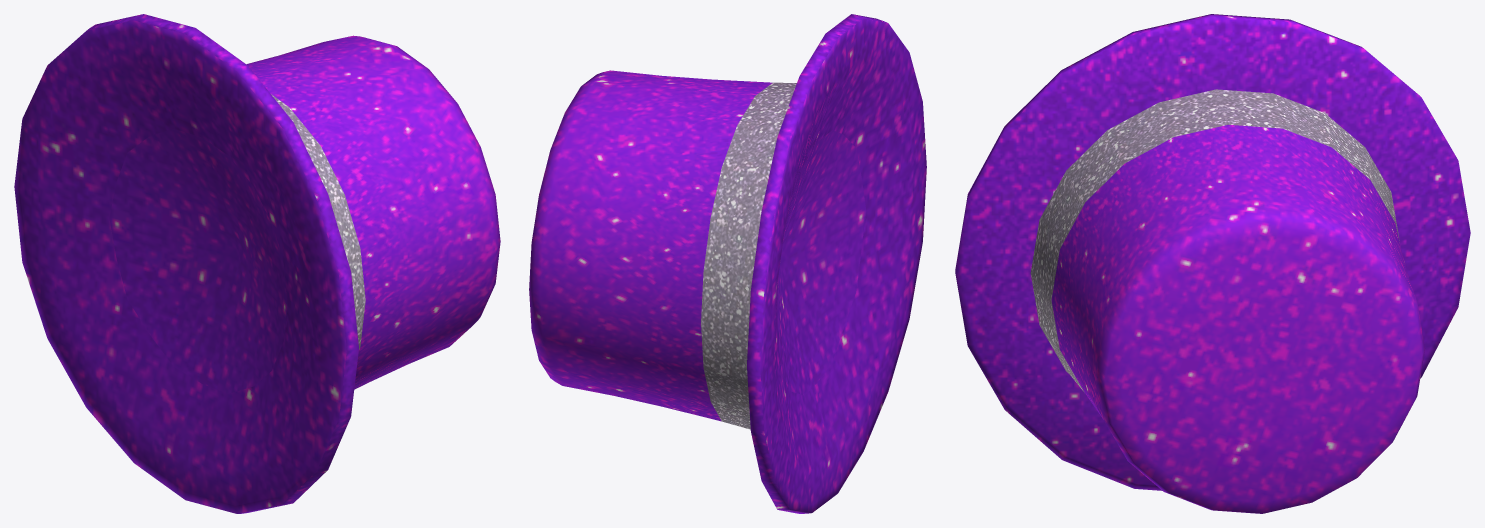
The model's file is pm0026_00_raichu_newyear2021.fbx.
3 views of the same model, side by side, from view 1: azimuth 30°, elevation 25°; view 2: azimuth 150°, elevation 25°; view 3: azimuth 270°, elevation 25° (orthographic). The views are drawn at different scales.
Visible parts, largest first — view 1: pm0025_00_NewyearSkin2021; view 2: pm0025_00_NewyearSkin2021; view 3: pm0025_00_NewyearSkin2021.
Part boxes in pixels (x1,y1,x2,y2): pm0025_00_NewyearSkin2021: (14,14,500,513); pm0025_00_NewyearSkin2021: (529,14,926,513); pm0025_00_NewyearSkin2021: (955,14,1470,513).
Size of the model in its own units: 0.1379 by 0.2004 by 0.1961.
Materials: 1 (1 with a texture image).
